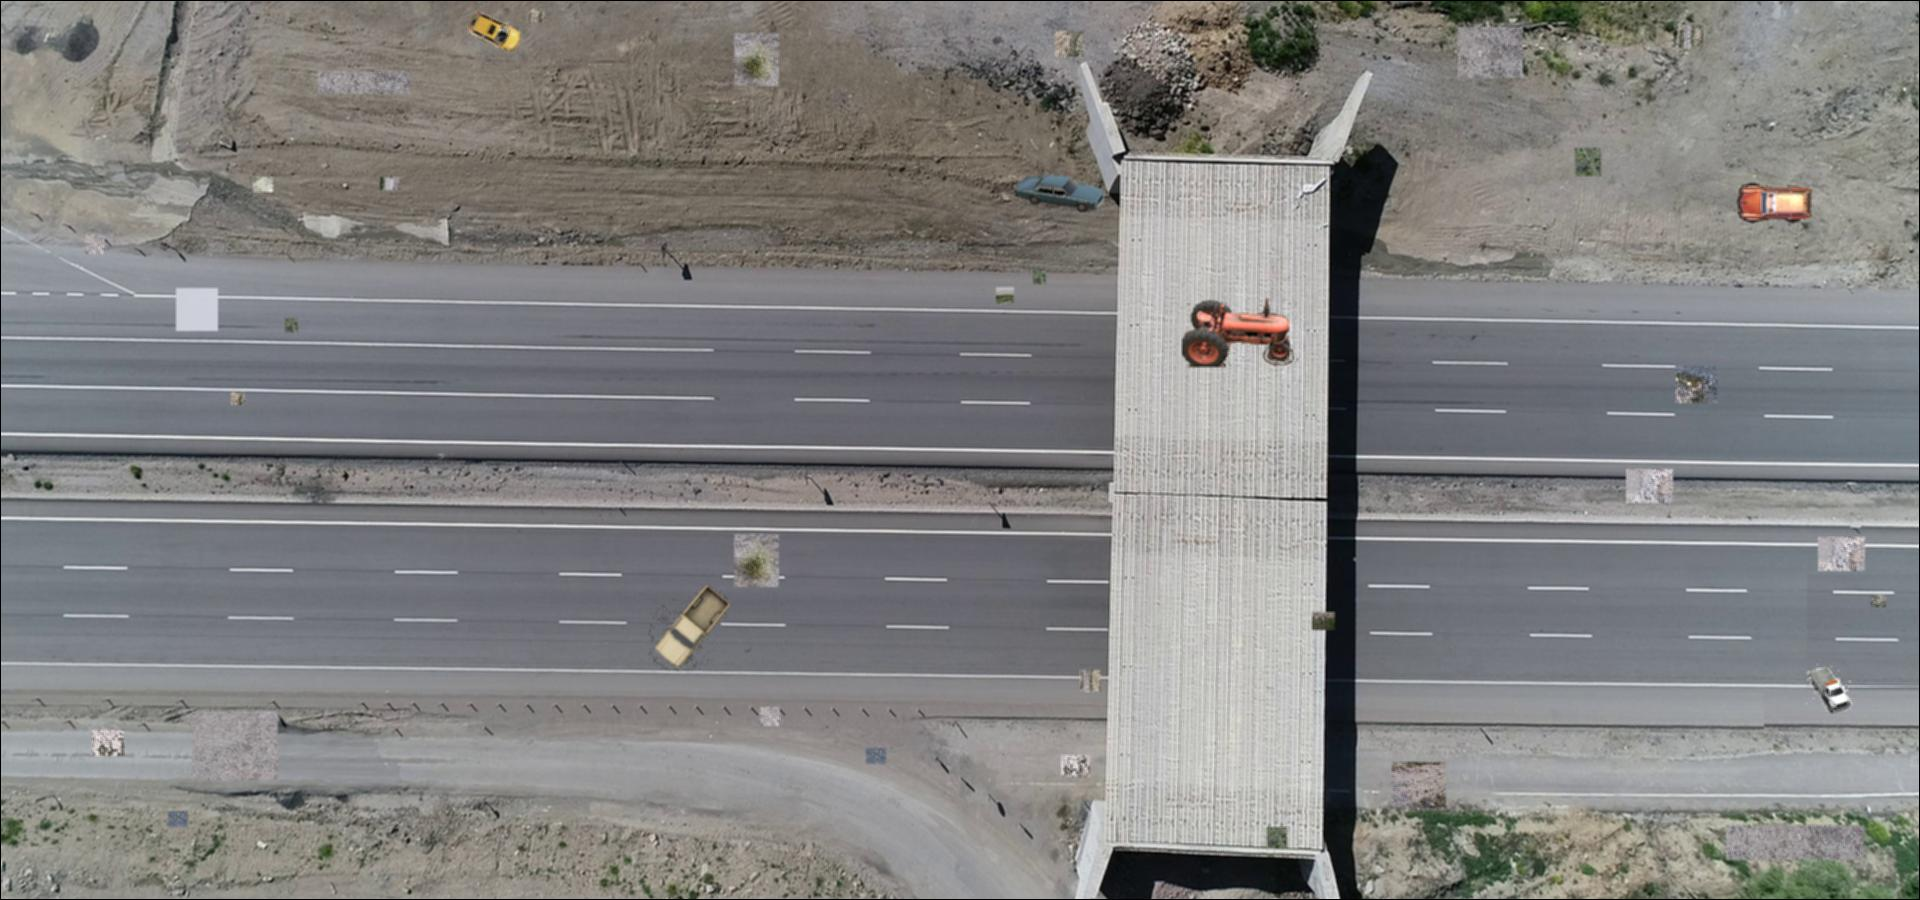arac: (1182, 298, 1298, 367), (649, 585, 735, 671), (1015, 174, 1106, 212), (1736, 182, 1813, 224), (1806, 664, 1854, 713), (467, 12, 522, 51)
